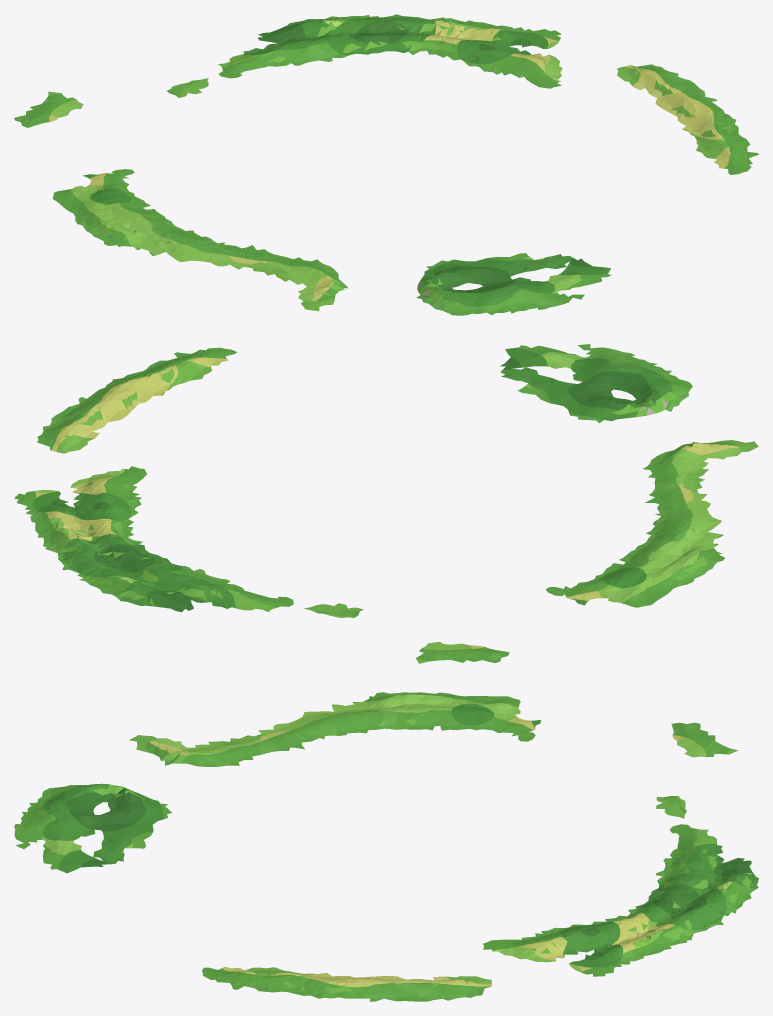
File: Isl-atoll6-Relief.fbx
The picture shows the model from 3 angles, top to bottom: view 1: azimuth 30°, elevation 25°; view 2: azimuth 150°, elevation 25°; view 3: azimuth 270°, elevation 25°; orthographic projection. The views are drawn at different scales.
Parts seen in each view (by area): view 1: Isl-atoll6-Relief-c22, Isl-atoll6-Relief-c11, Isl-atoll6-Relief-c21, Isl-atoll6-Relief-c12, Isl-atoll6-Relief-c10; view 2: Isl-atoll6-Relief-c22, Isl-atoll6-Relief-c11, Isl-atoll6-Relief-c12, Isl-atoll6-Relief-c21; view 3: Isl-atoll6-Relief-c22, Isl-atoll6-Relief-c11, Isl-atoll6-Relief-c12, Isl-atoll6-Relief-c21, Isl-atoll6-Relief-c10.
Boxes of the visible parts, x1,y1,x2,y2 form: Isl-atoll6-Relief-c22: (239,14,696,96); Isl-atoll6-Relief-c11: (92,214,563,315); Isl-atoll6-Relief-c21: (513,85,758,290); Isl-atoll6-Relief-c12: (14,55,256,233); Isl-atoll6-Relief-c10: (492,293,572,314); Isl-atoll6-Relief-c22: (14,412,256,612); Isl-atoll6-Relief-c11: (531,352,758,570); Isl-atoll6-Relief-c12: (238,551,707,663); Isl-atoll6-Relief-c21: (60,345,582,424); Isl-atoll6-Relief-c22: (410,839,758,1001); Isl-atoll6-Relief-c11: (28,692,413,842); Isl-atoll6-Relief-c12: (410,692,738,842); Isl-atoll6-Relief-c21: (43,841,413,1001); Isl-atoll6-Relief-c10: (14,803,37,842).
Size of the model in its own units: 101 by 1.45 by 103.
